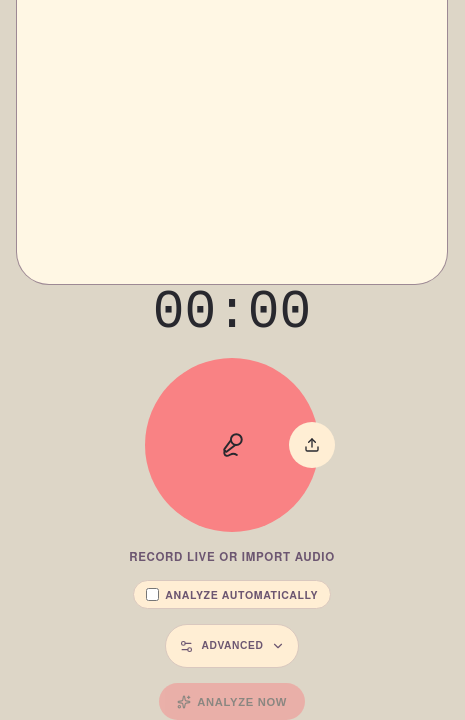
Test: Recorder › advanced options › collapses advanced section when clicked again
The width and height of the screenshot is (465, 720).
(page scrolled)
Click the button with aria-label "show advanced options" at x=232, y=646, box [165,624,299,668]
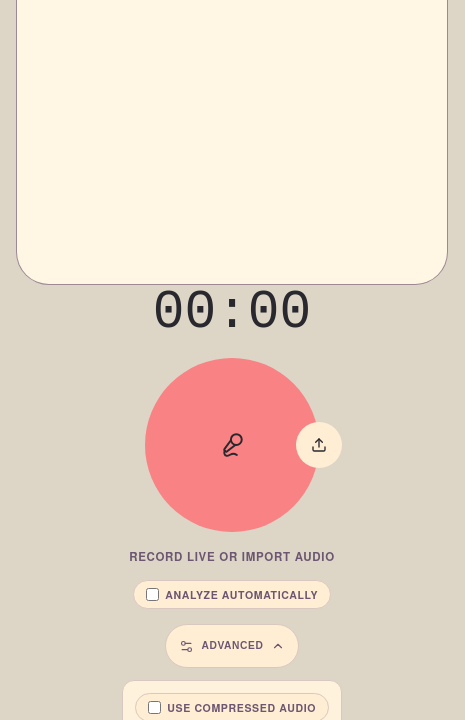
Expected: the button with aria-label "hide advanced options" is expanded
Click the button with aria-label "hide advanced options" at x=232, y=646, box [165,624,299,668]
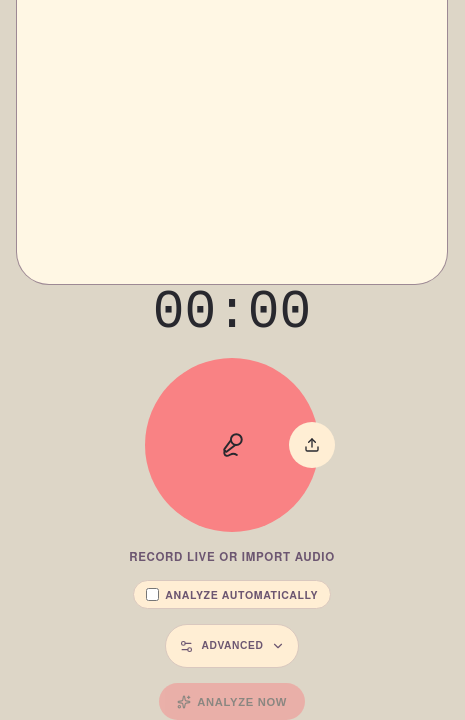
Expected: the button with aria-label "show advanced options" is collapsed, [165,624,299,668]
Expected: the text "Use compressed audio" is gone
